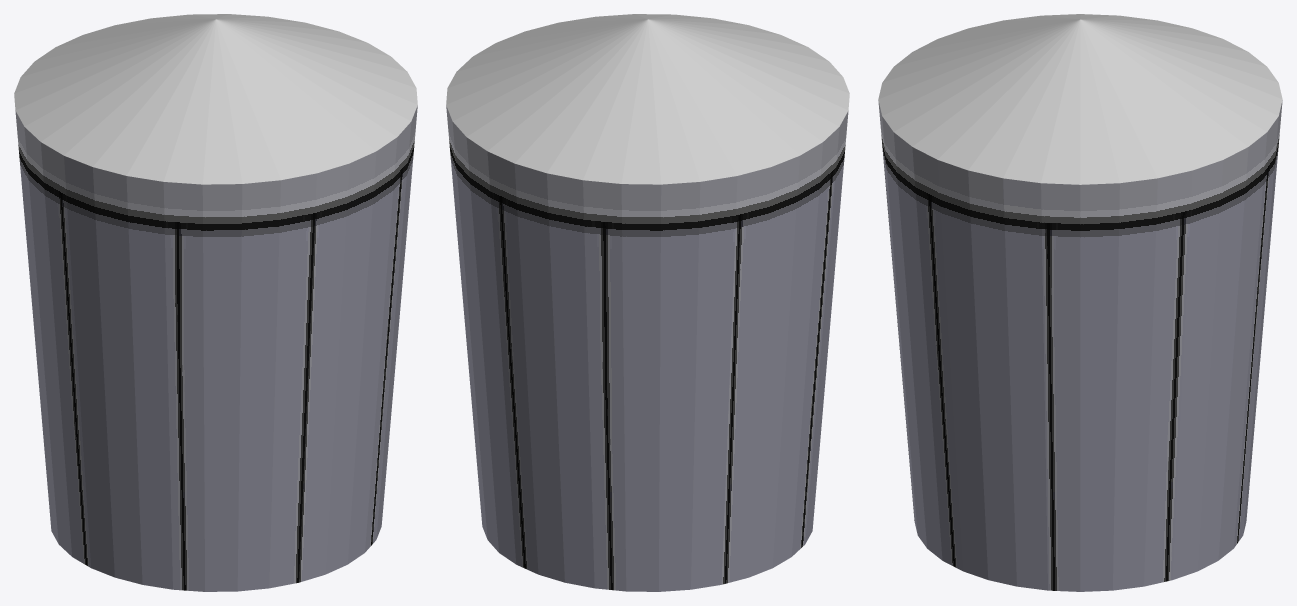
File: trashcan2.obj
3 renders of one model, left to right at view 1: azimuth 30°, elevation 25°; view 2: azimuth 150°, elevation 25°; view 3: azimuth 270°, elevation 25°, orthographic.
Parts seen in each view (by area): view 1: Cylinder; view 2: Cylinder; view 3: Cylinder.
Part boxes in pixels (x1,y1,x2,y2): Cylinder: (14, 14, 417, 591); Cylinder: (446, 14, 849, 591); Cylinder: (878, 14, 1282, 591).
Size of the model in its own units: 1.99 by 2.73 by 1.99.
